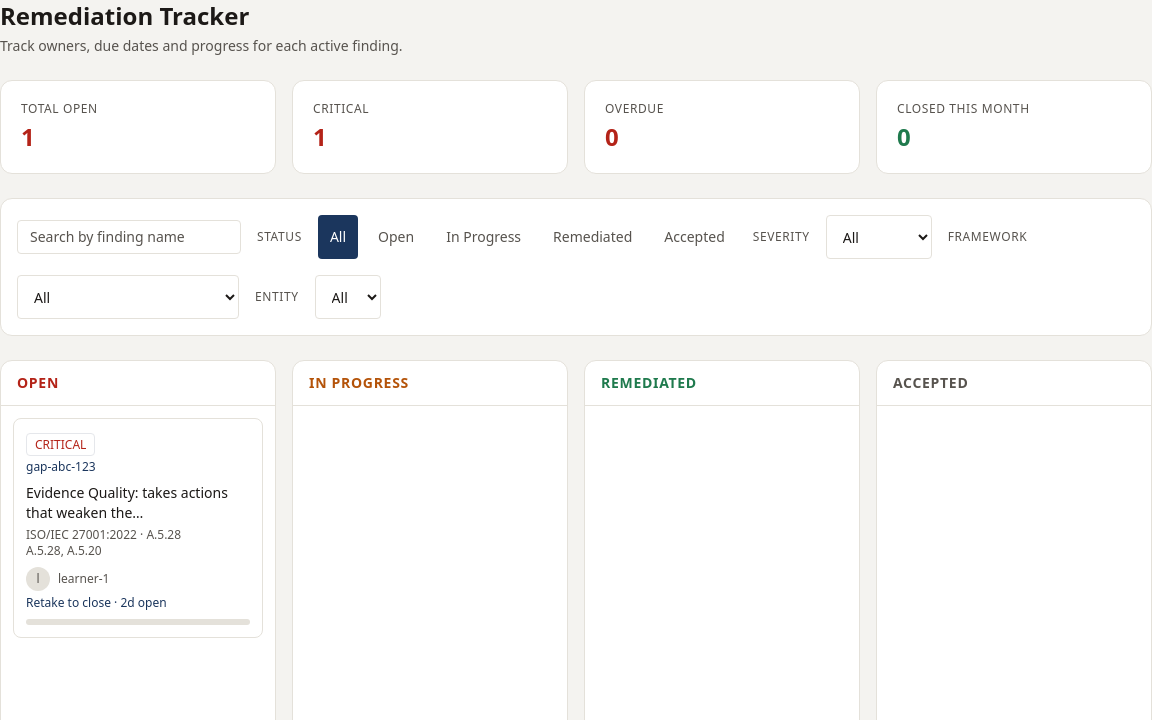
Test case: Remediation Tracker · competency gaps › offers a retake instead of a manual close, and names why
Click the text "Evidence Quality: takes actions that weaken the…": (138, 503) [26,483,250,523]
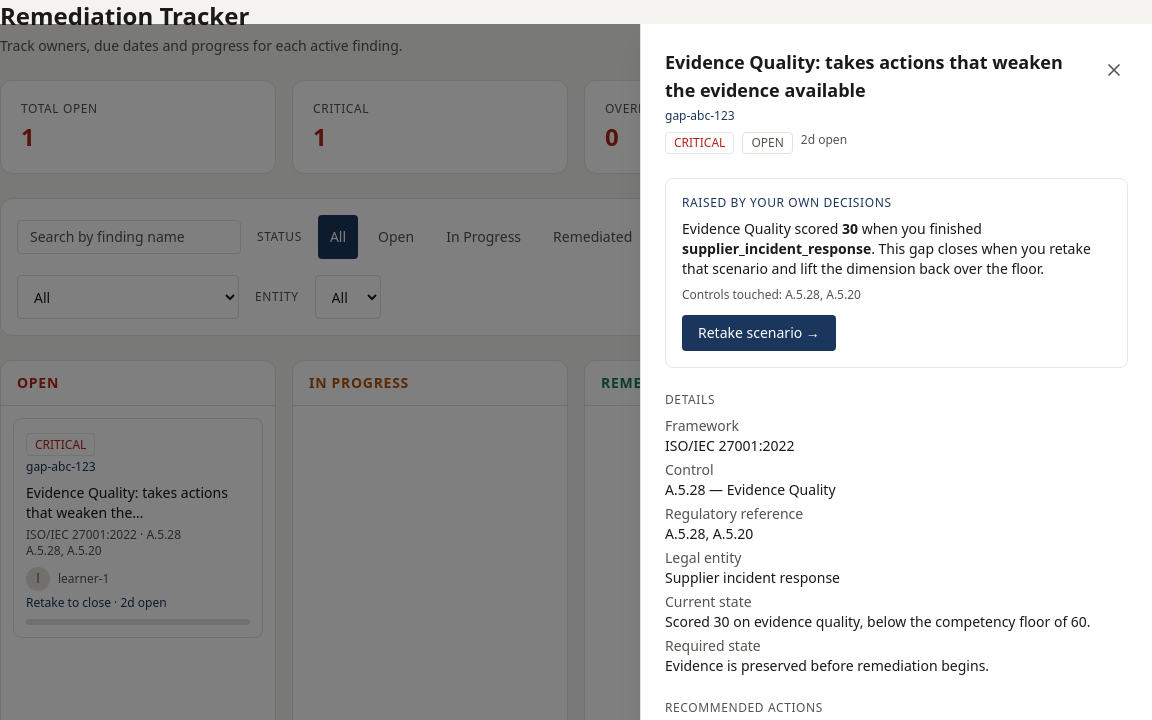
Expected: the heading "Raised by your own decisions" is shown, [682,194,892,211]
Expected: the text "supplier_incident_response" is shown, [682,239,871,258]
Expected: the link "Retake scenario →" is shown, [682,315,836,351]
